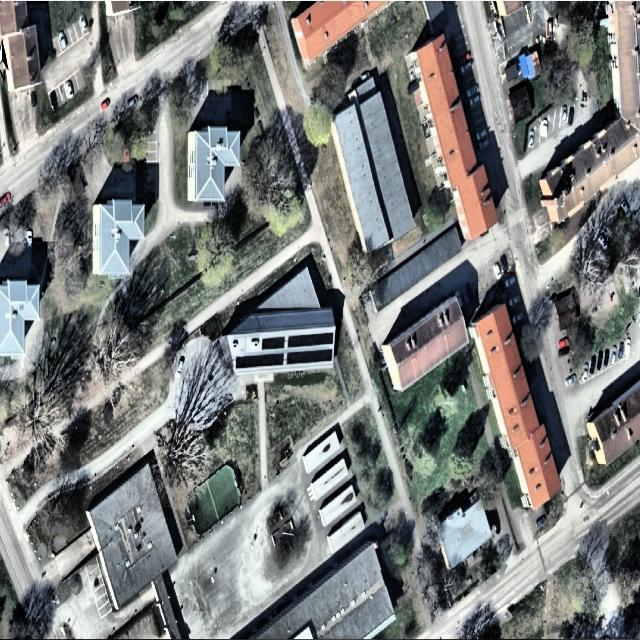roof_pv: (287, 349, 333, 366), (234, 355, 284, 368), (288, 333, 334, 346), (262, 337, 284, 350)
